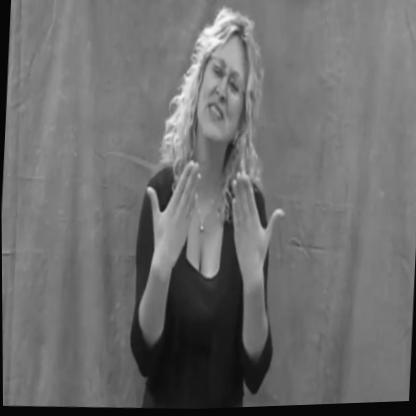ThankYou: (141, 4, 239, 275)
